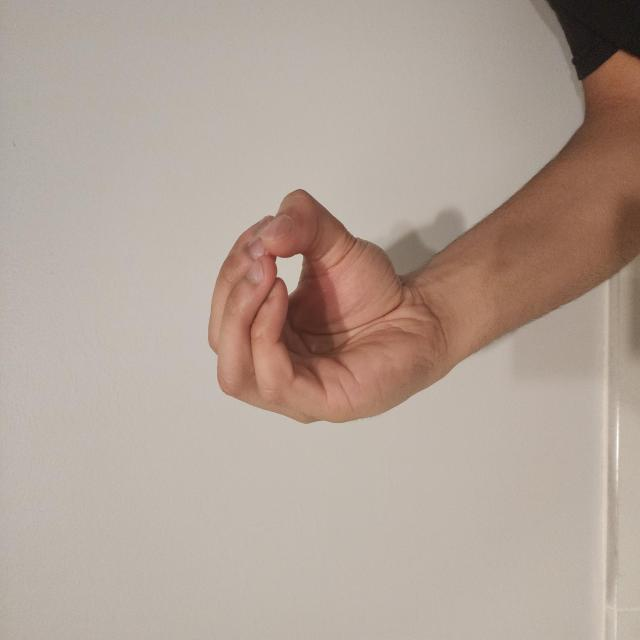O: (156, 272, 342, 596)
